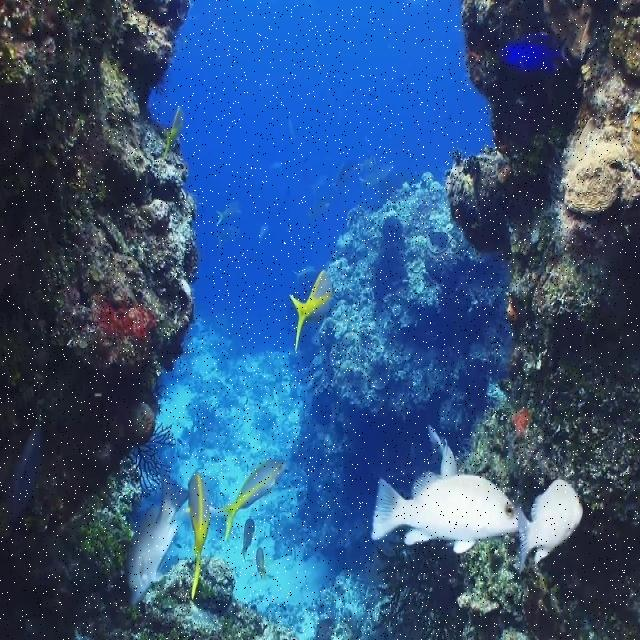fish: (371, 428, 516, 555), (128, 468, 188, 600), (222, 462, 287, 540), (291, 272, 334, 349), (186, 473, 210, 597)
sea-floor: (0, 0, 298, 639), (447, 0, 639, 638), (279, 175, 511, 562)
